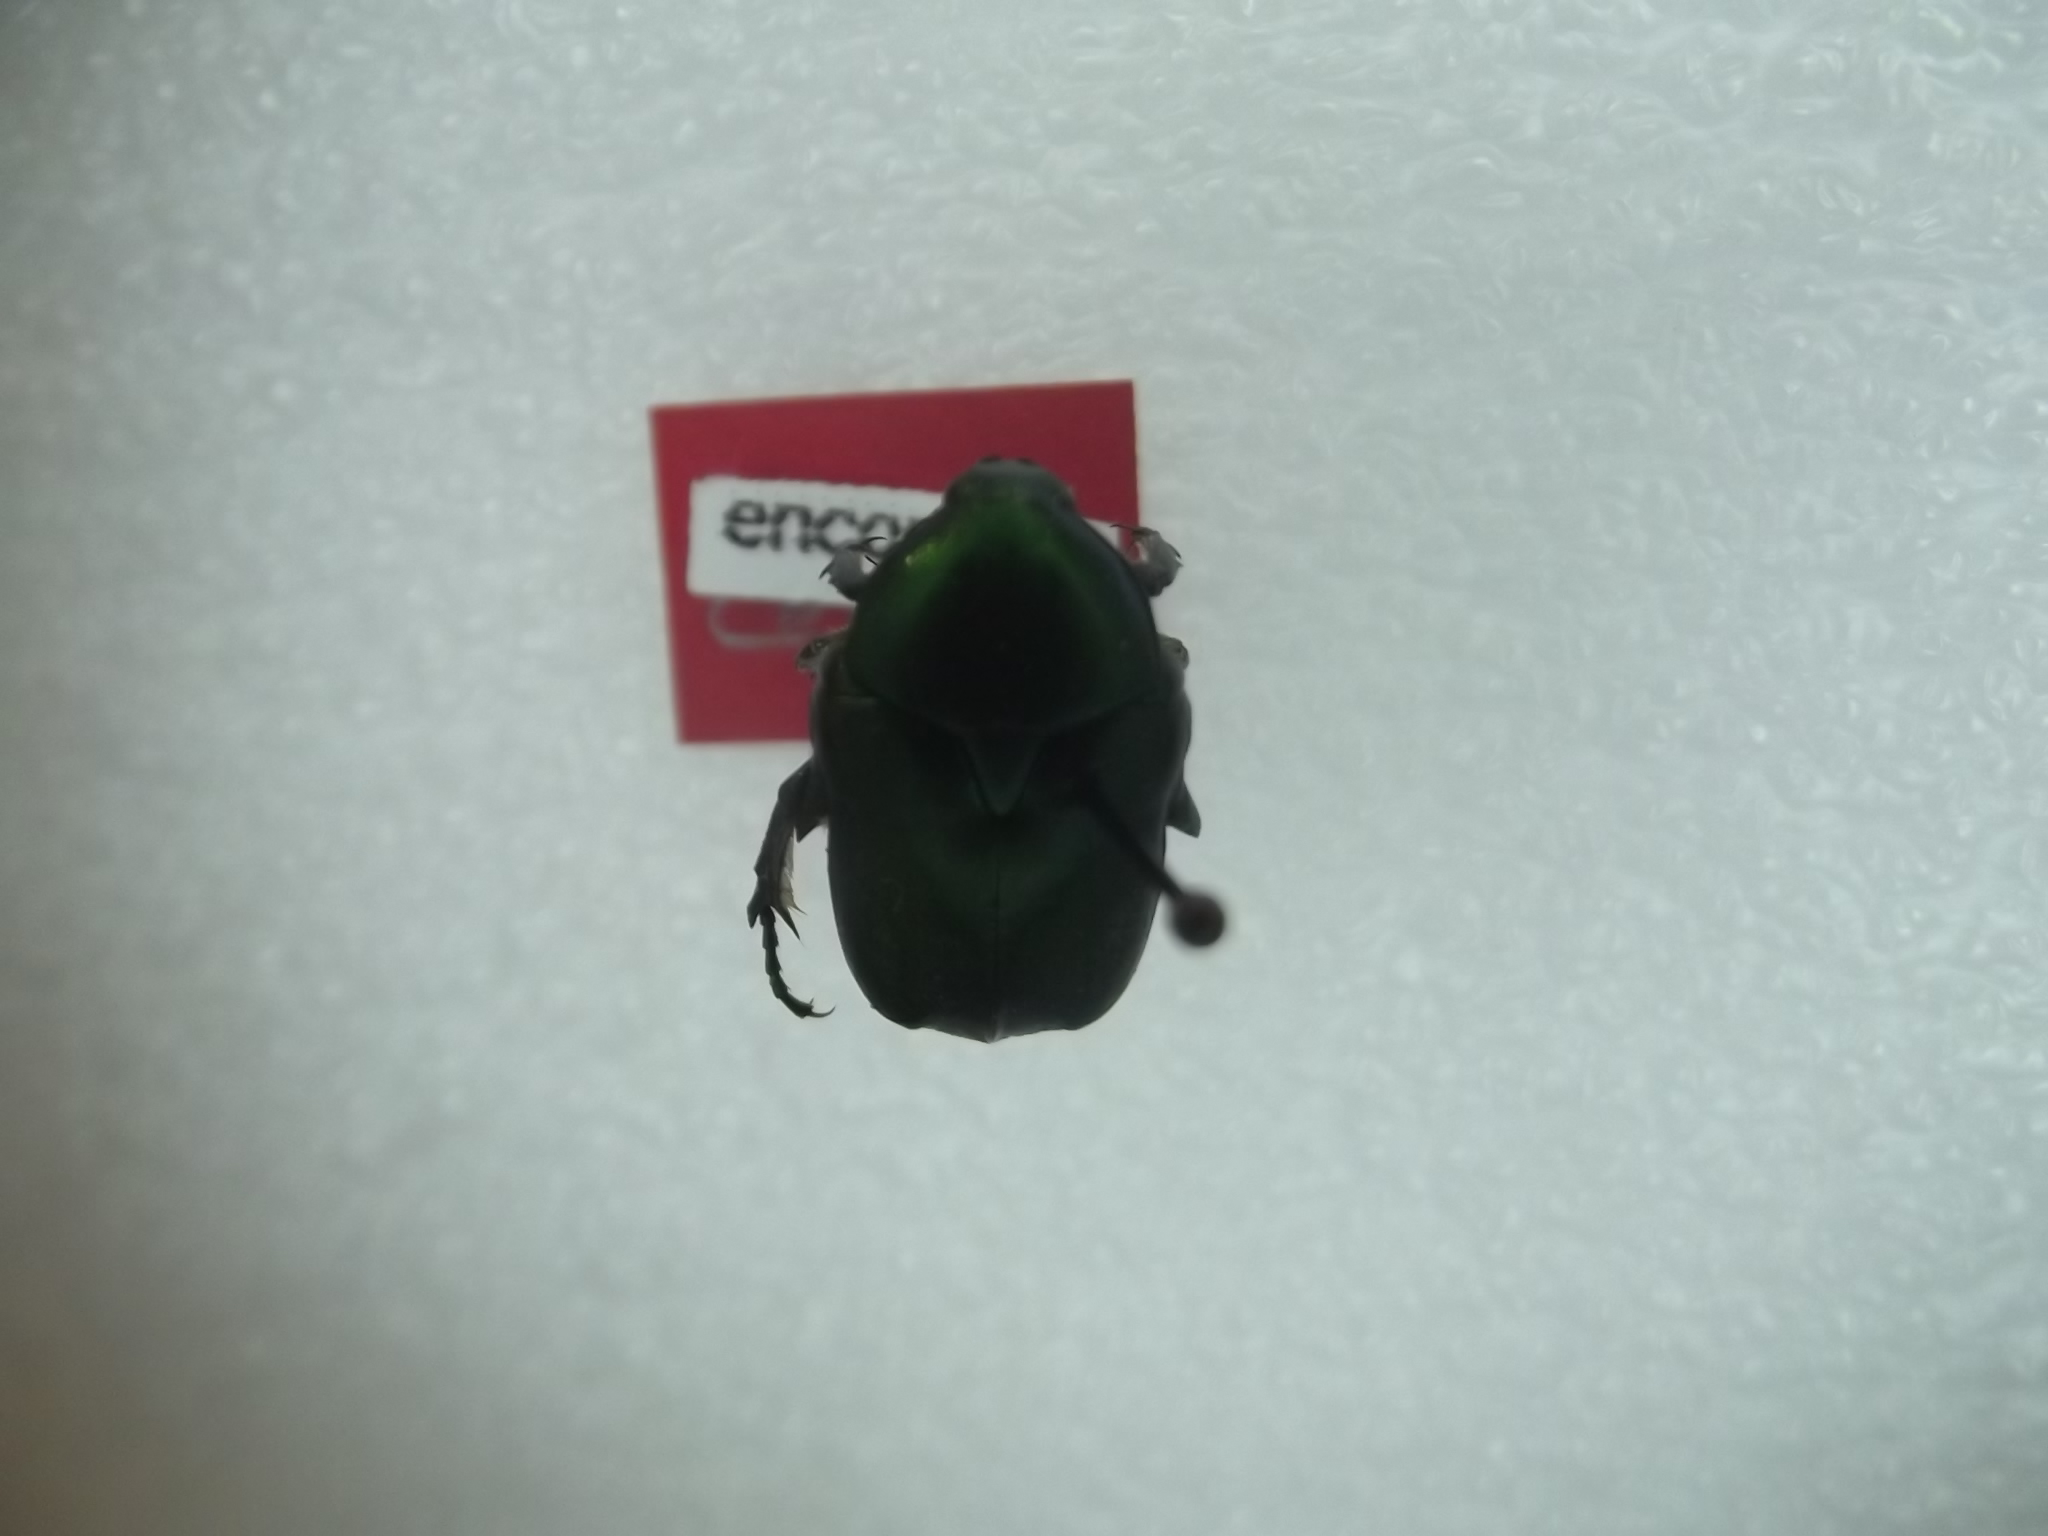Protaetia_ungarica_americana: (743, 426, 1235, 1060)
